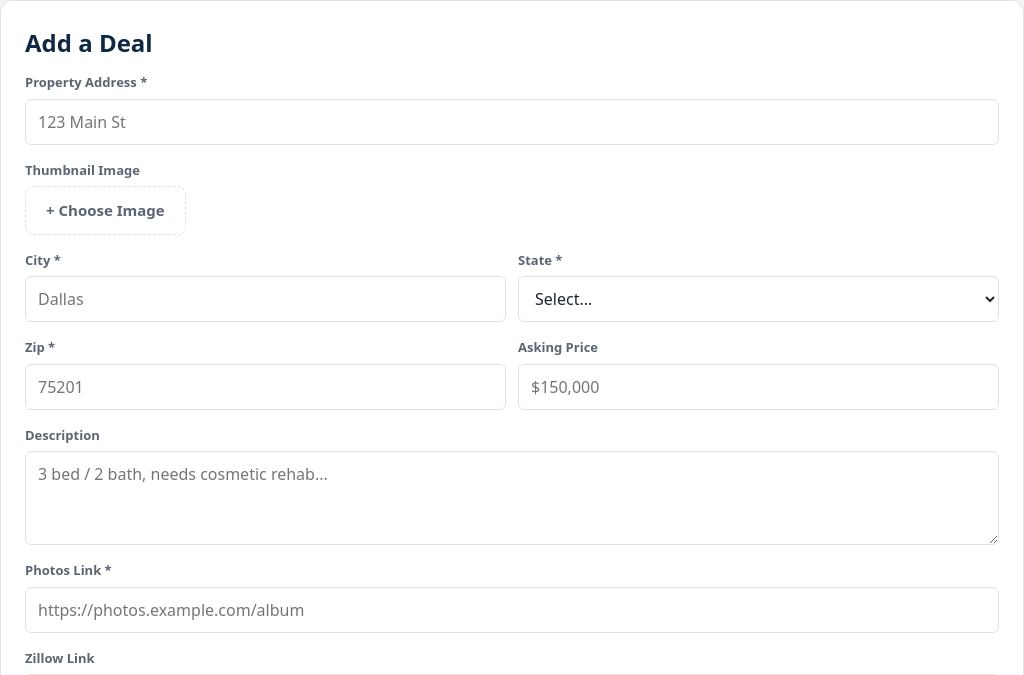
Test: AddDealForm › is case- and whitespace-insensitive when matching duplicate addresses
Type "  123   MAIN st " into the field labelled "Property Address *" at (512, 122), box 25,98 -> 999,144
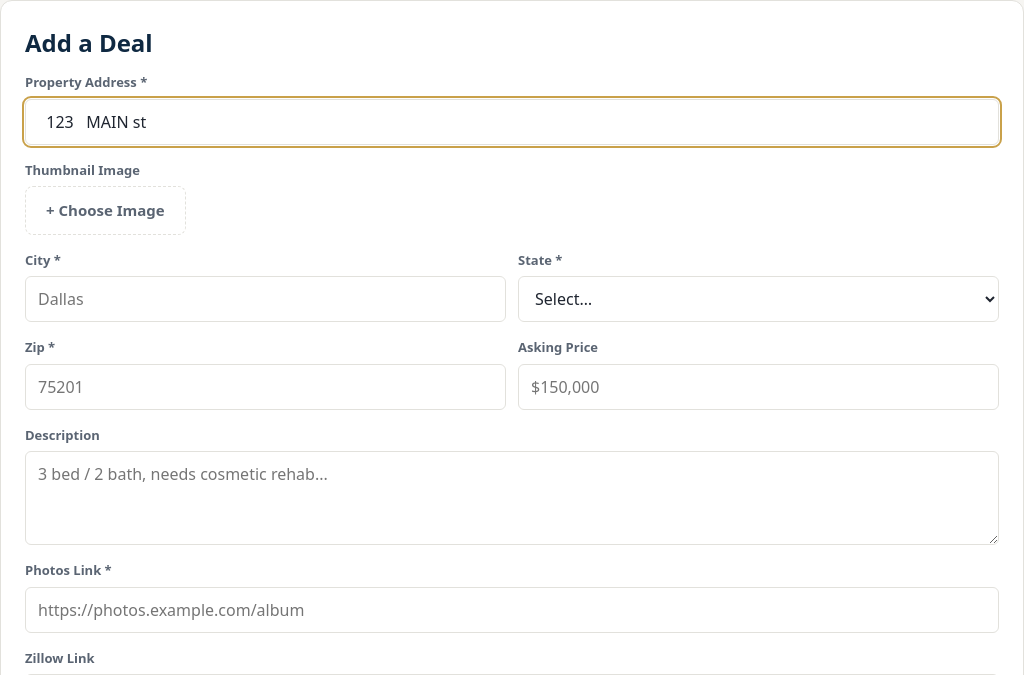
Press Tab
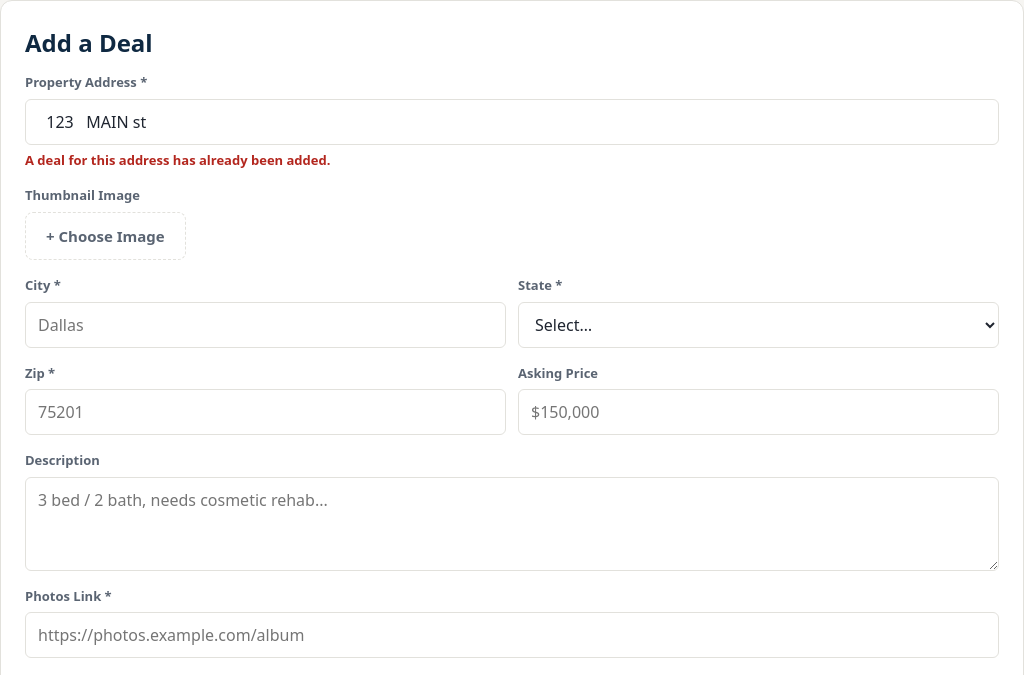
Expected: the text "A deal for this address has already been added." is shown, 25,150 -> 330,168
